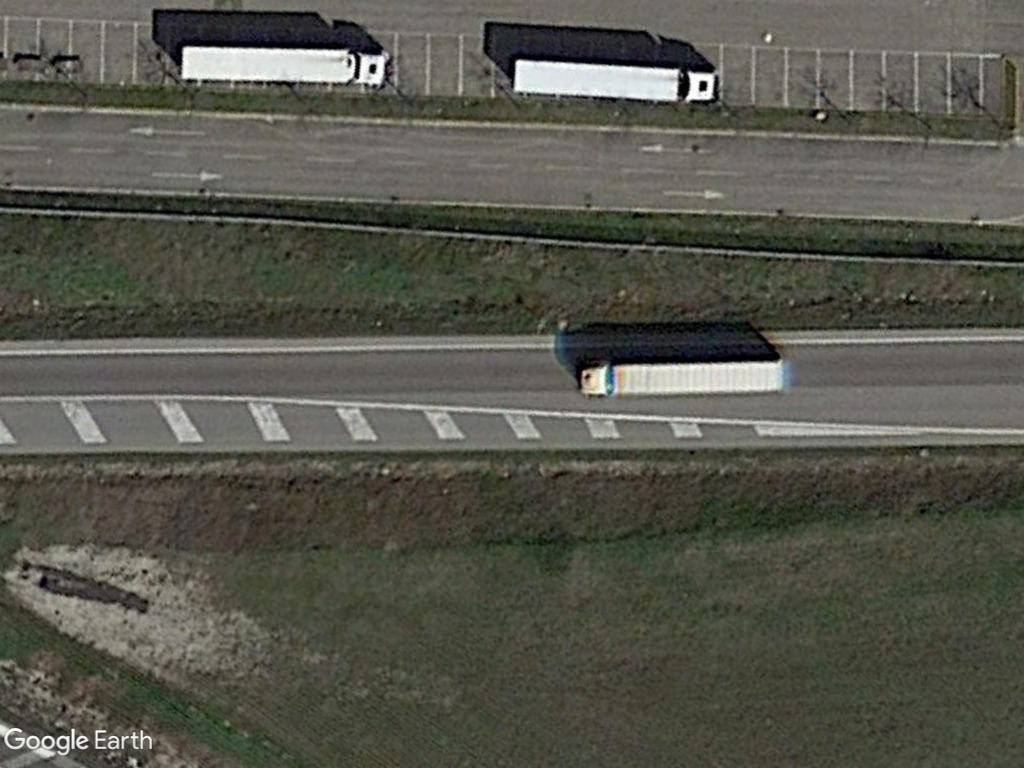longvehicle: (506, 53, 723, 108)
truck: (172, 40, 392, 91), (573, 355, 791, 400)
